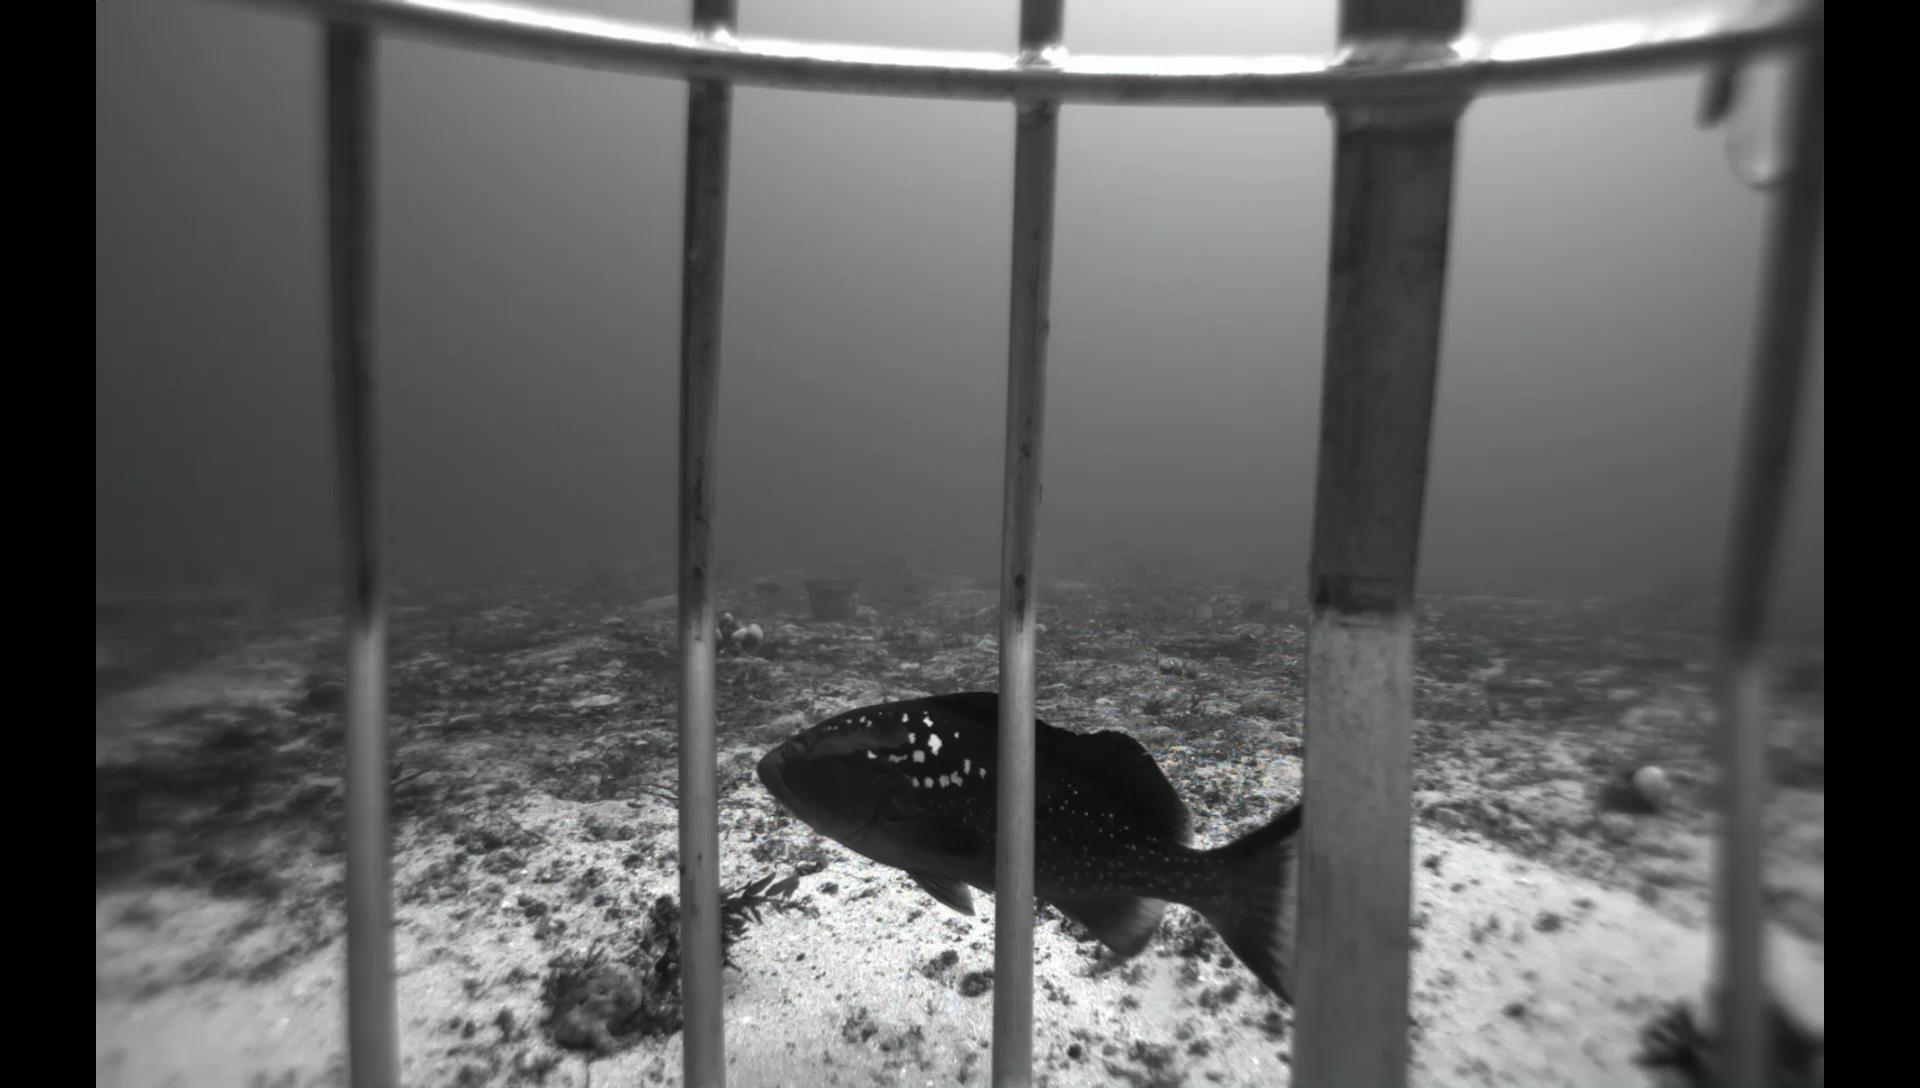CHAETODONOCELLATUS-170260307: (1257, 589, 1303, 619), (1182, 599, 1220, 626)
EPINEPHELUSMORIO-170021211: (748, 688, 1302, 1014)
PRISTIGENYSALTA-170050401: (295, 677, 345, 719)
